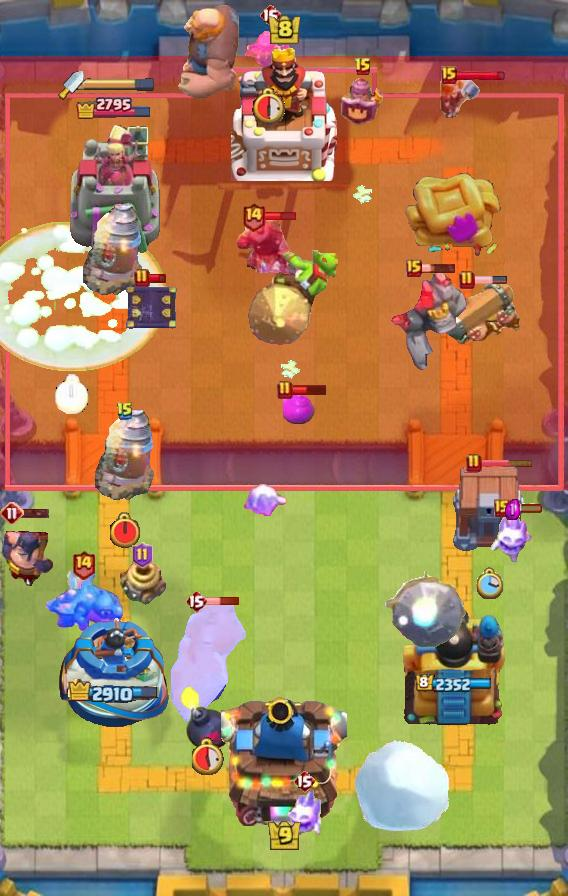baby-dragon: (179, 684, 233, 752)
balloon: (174, 0, 242, 102)
bar: (67, 122, 161, 256)
battle-healer: (441, 276, 521, 348)
bomb: (450, 467, 528, 553)
cannoneer-tower: (381, 266, 469, 372)
electro-spirit: (504, 499, 519, 520)
elixir: (251, 86, 288, 127), (55, 374, 89, 414), (108, 512, 142, 550), (191, 737, 225, 775), (475, 567, 503, 601)
emote: (454, 69, 505, 82), (480, 457, 534, 467), (292, 384, 329, 397), (13, 507, 51, 519), (420, 262, 457, 274), (508, 502, 544, 514), (263, 210, 298, 222), (472, 275, 508, 285), (204, 596, 240, 606), (148, 273, 168, 284)
evolution-symbol: (245, 28, 295, 78)
goblin-drill: (117, 559, 167, 607)
graveyard: (41, 569, 125, 633)
hog-rider: (438, 75, 482, 125)
ice-spirit-evolution-symbol: (125, 282, 179, 332)
inferno-dragon: (236, 217, 302, 289)
king-tower: (221, 690, 347, 826), (231, 45, 337, 181)
king-tower-bar: (84, 77, 156, 91)
magic-archer: (83, 204, 143, 296), (95, 409, 155, 501)
miner: (283, 394, 315, 424)
mirror: (490, 510, 534, 564), (284, 787, 324, 839), (239, 484, 289, 522)
monk: (0, 517, 56, 589)
phoenix-big: (0, 221, 168, 371)
princess: (339, 68, 387, 128)
queen-tower: (54, 614, 173, 730)
selected: (67, 679, 160, 707), (75, 95, 153, 119), (416, 674, 493, 694)
text: (241, 200, 266, 231), (71, 548, 96, 579), (0, 501, 24, 525), (131, 542, 153, 568), (259, 3, 281, 27), (185, 589, 207, 613), (293, 769, 315, 793), (354, 57, 372, 77), (116, 401, 134, 421), (134, 268, 150, 288), (459, 270, 475, 290), (277, 380, 293, 400), (466, 453, 482, 473), (441, 66, 457, 84), (406, 259, 422, 277), (494, 499, 510, 517)
tower-bar: (397, 595, 509, 731)
wall-breaker: (354, 738, 451, 833)
wizard: (170, 600, 246, 726)
x-bow: (245, 248, 343, 348), (384, 569, 468, 649)
